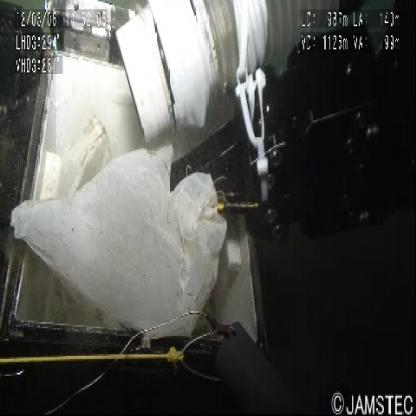Rov: (39, 1, 416, 279), (2, 2, 34, 96)
Rác: (6, 134, 270, 345)
